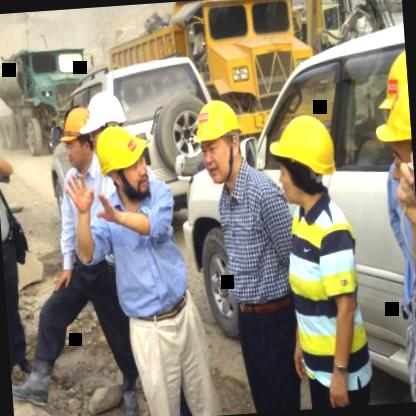helmet: (267, 110, 341, 206), (190, 92, 249, 187), (373, 78, 416, 207), (94, 122, 154, 195), (58, 102, 99, 172), (85, 90, 126, 142)
